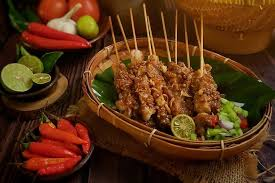sate: (104, 6, 251, 144)
